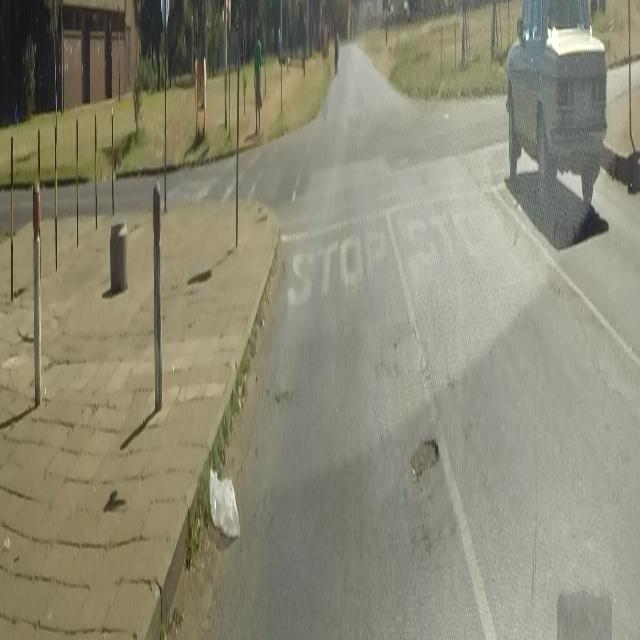pothole: (409, 436, 440, 484), (274, 381, 290, 410)
